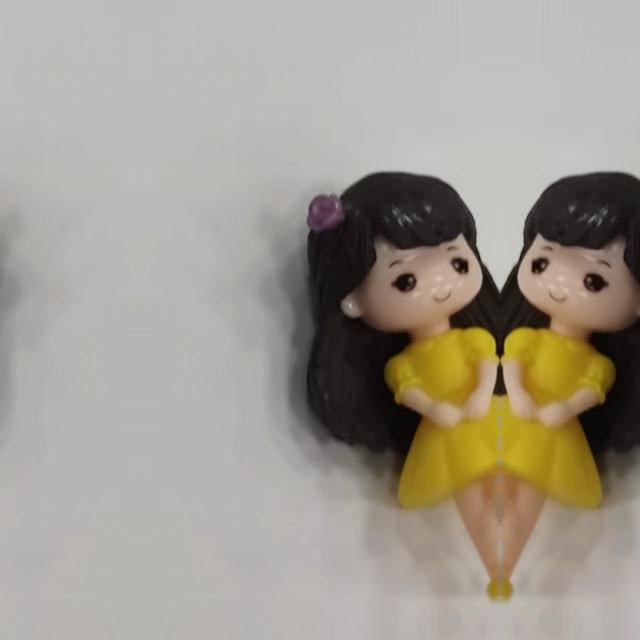woman dress: (384, 331, 500, 607), (500, 331, 616, 607)
woman head: (292, 172, 500, 336), (500, 172, 640, 336)
